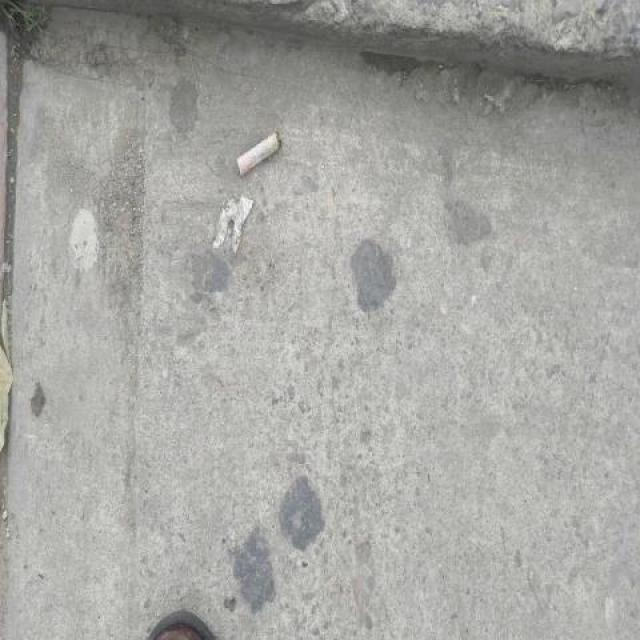non-organic waste: (233, 124, 288, 180)
